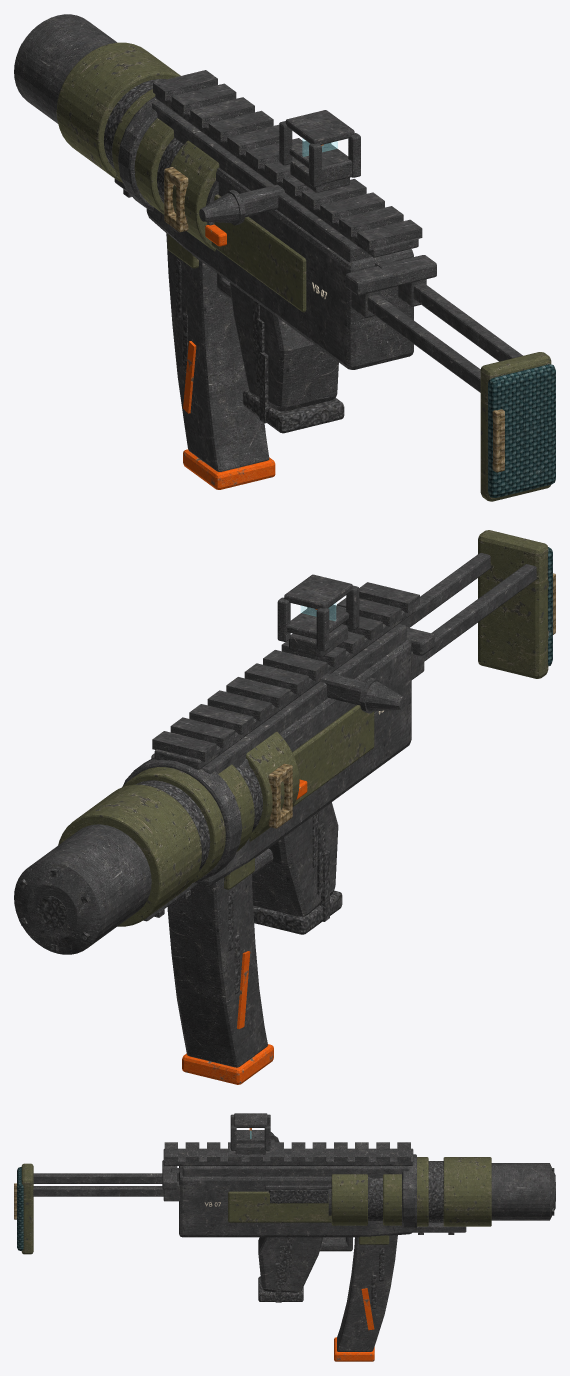
The model's file is wasp.gltf.
3 renders of one model, top to bottom at view 1: azimuth 30°, elevation 25°; view 2: azimuth 150°, elevation 25°; view 3: azimuth 270°, elevation 25°, orthographic. The views are drawn at different scales.
Visible parts, largest first — view 1: body, mag, bolt; view 2: body, mag, bolt; view 3: body, mag, trigger.
Boxes of the visible parts, x1,y1,x2,y2 form: body: (14,14,555,501); mag: (166,233,275,489); bolt: (199,184,343,225); body: (14,530,555,954); mag: (167,858,273,1084); bolt: (320,631,405,713); body: (14,1113,555,1302); mag: (334,1235,397,1361); trigger: (320,1237,352,1251).
Size of the model in its own units: 0.138 by 0.344 by 0.7165.
8 materials, 7 textured.
